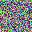bridge: (11, 7, 22, 21)
expresswayservicearea: (5, 2, 23, 16)
